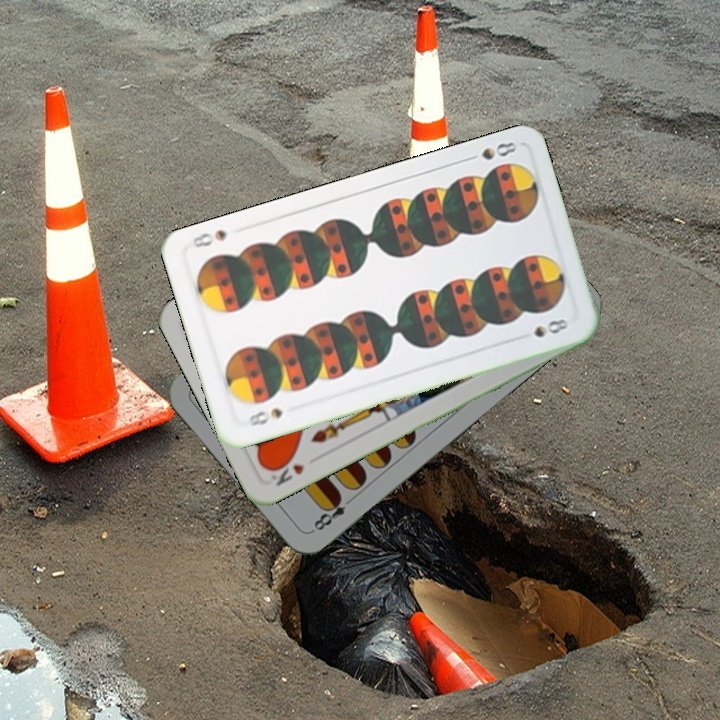E8: (308, 490, 358, 535)
HK: (271, 460, 308, 489)
S8: (461, 137, 520, 164), (242, 404, 286, 429)
